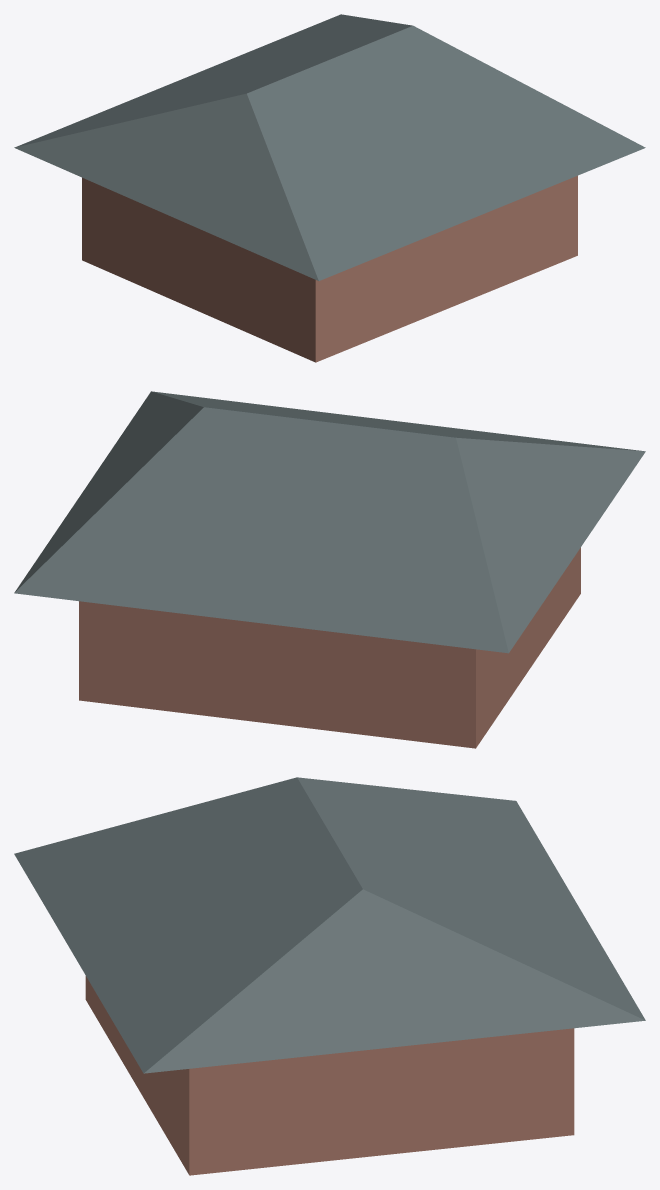
The model's file is landmark-330895fc-b848-459c-bb09-4ccd0def9927.glb.
The picture shows the model from 3 angles, top to bottom: view 1: azimuth 30°, elevation 25°; view 2: azimuth 150°, elevation 25°; view 3: azimuth 270°, elevation 25°; orthographic projection. The views are drawn at different scales.
Visible parts, largest first — view 1: landmark-330895fc-b848-459c-bb09-4ccd0def9927; view 2: landmark-330895fc-b848-459c-bb09-4ccd0def9927; view 3: landmark-330895fc-b848-459c-bb09-4ccd0def9927.
Boxes of the visible parts, left/top/right/bottom form: landmark-330895fc-b848-459c-bb09-4ccd0def9927: left=14, top=14, right=645, bottom=362; landmark-330895fc-b848-459c-bb09-4ccd0def9927: left=14, top=391, right=645, bottom=748; landmark-330895fc-b848-459c-bb09-4ccd0def9927: left=14, top=777, right=645, bottom=1175.
Bounding box in the file's own units: 22.5 × 9 × 22.03.
